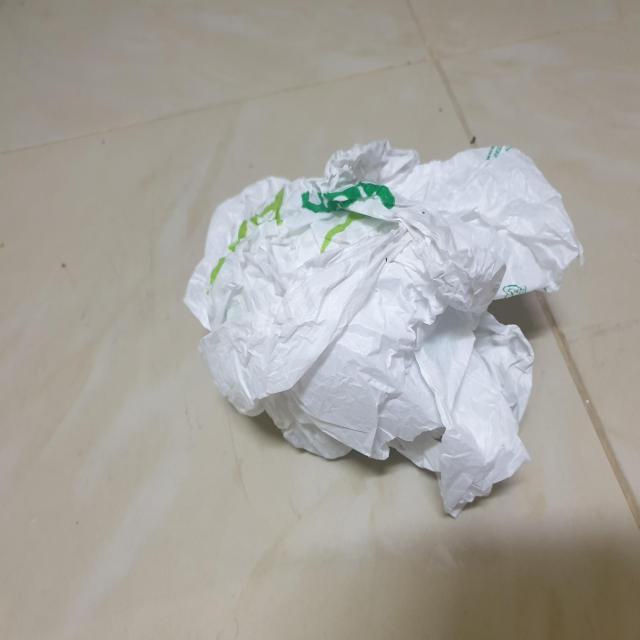plastic bag: (182, 138, 586, 526)
